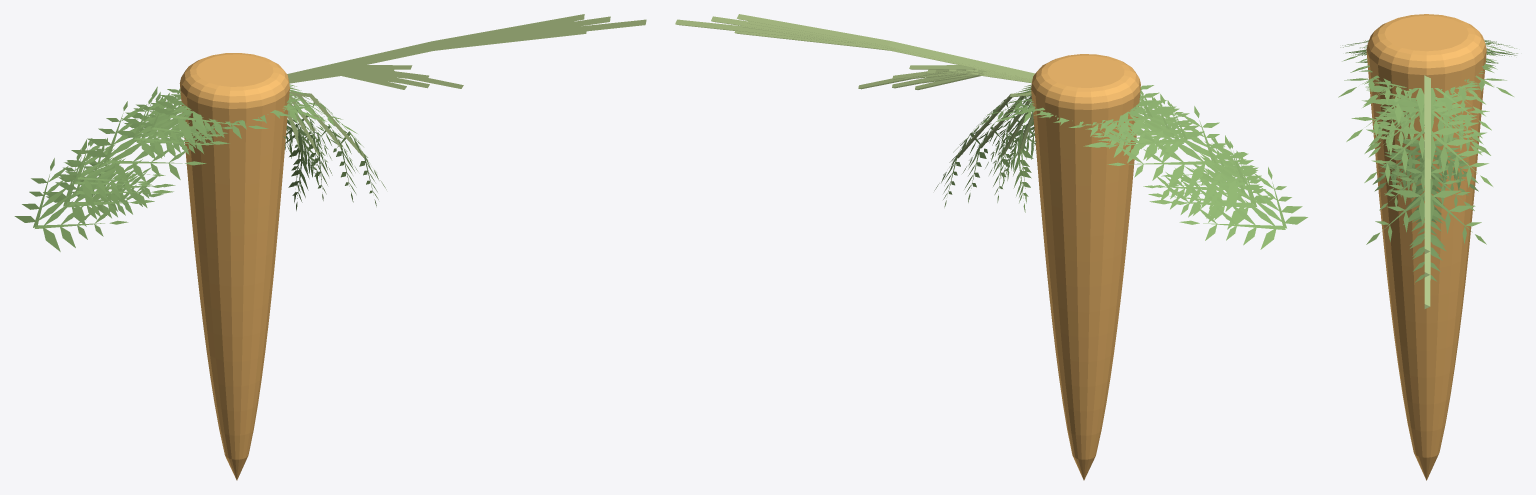
The model's file is carrot_harvest_v08.articulated.glb.
The picture shows the model from 3 angles, left to right: view 1: azimuth 30°, elevation 25°; view 2: azimuth 150°, elevation 25°; view 3: azimuth 270°, elevation 25°; orthographic projection. The views are drawn at different scales.
Visible parts, largest first — view 1: root, leaf05_link2, leaf01_link2, leaf02_link2, leaf05_link0, leaf00_link2, leaf09_link2, leaf04_link2, leaf08_link2, leaf03_link2, leaf00_link0, leaf05_link1 (+1 smaller); view 2: root, leaf05_link2, leaf01_link2, leaf02_link2, leaf04_link0, leaf00_link2, leaf09_link2, leaf04_link2, leaf03_link2, leaf08_link2, leaf05_link0, leaf00_link0; view 3: root, leaf05_link2, leaf02_link2, leaf01_link2, leaf00_link2, leaf03_link2, leaf04_link0, leaf09_link2, leaf08_link2, leaf05_link0.
Part boxes in pixels (box(x1,y1,x2,y2)): root: box(179, 53, 289, 480); leaf05_link2: box(14, 84, 386, 251); leaf01_link2: box(57, 94, 333, 200); leaf02_link2: box(46, 86, 357, 226); leaf05_link0: box(288, 19, 646, 80); leaf00_link2: box(43, 92, 319, 217); leaf09_link2: box(59, 96, 318, 209); leaf04_link2: box(65, 99, 306, 192); leaf08_link2: box(80, 93, 319, 204); leaf03_link2: box(72, 88, 332, 215); leaf00_link0: box(287, 16, 610, 74); leaf05_link1: box(289, 66, 463, 88); root: box(1031, 54, 1140, 480); leaf05_link2: box(934, 84, 1307, 249); leaf01_link2: box(985, 89, 1261, 202); leaf02_link2: box(962, 95, 1273, 226); leaf04_link0: box(737, 14, 1034, 78); leaf00_link2: box(1001, 94, 1268, 229); leaf09_link2: box(1005, 101, 1259, 211); leaf04_link2: box(1026, 97, 1256, 195); leaf03_link2: box(989, 90, 1241, 222); leaf08_link2: box(1001, 97, 1242, 208); leaf05_link0: box(675, 19, 1029, 79); leaf00_link0: box(711, 16, 1031, 79); root: box(1366, 14, 1486, 480); leaf05_link2: box(1338, 39, 1517, 282); leaf02_link2: box(1356, 44, 1511, 256); leaf01_link2: box(1358, 40, 1497, 206); leaf00_link2: box(1350, 48, 1511, 222); leaf03_link2: box(1360, 62, 1498, 234); leaf04_link0: box(1424, 75, 1430, 253); leaf09_link2: box(1345, 49, 1490, 214); leaf08_link2: box(1355, 49, 1491, 192); leaf05_link0: box(1424, 134, 1430, 308).
Size of the model in its own units: 0.2515 by 0.1613 by 0.0603.
1 material, 1 textured.
